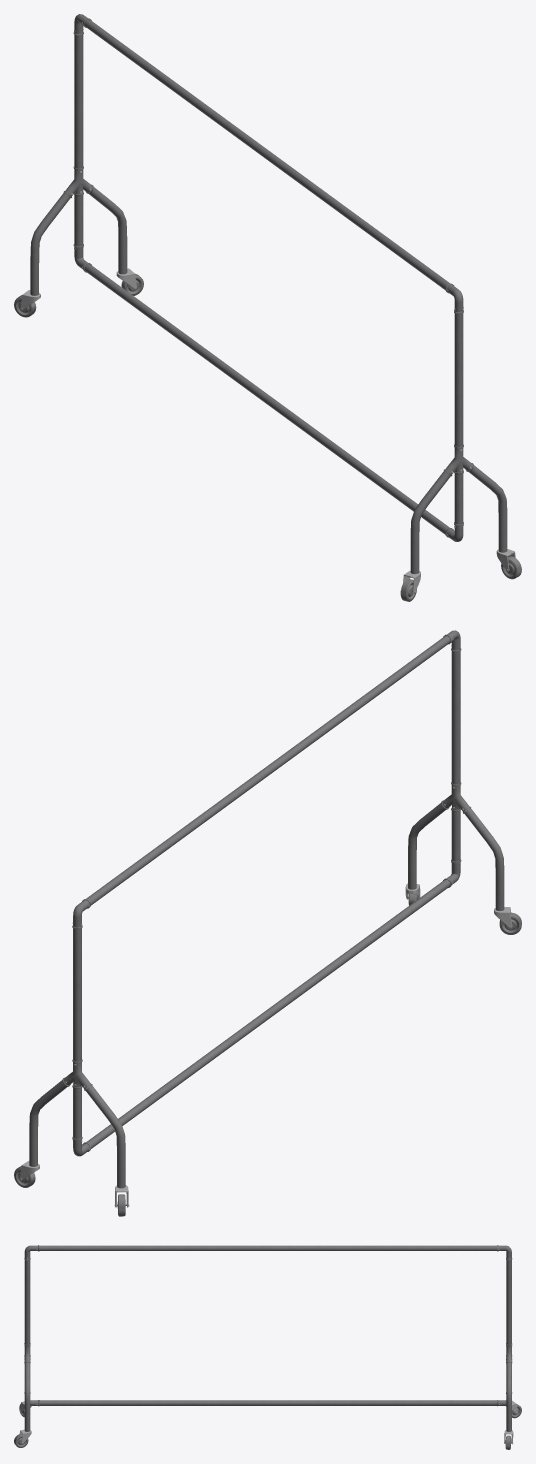
The model's file is SM_Rack_02c.fbx.
The picture shows the model from 3 angles, top to bottom: view 1: azimuth 30°, elevation 25°; view 2: azimuth 150°, elevation 25°; view 3: azimuth 270°, elevation 25°; orthographic projection. The views are drawn at different scales.
Parts seen in each view (by area): view 1: SM_Rack_02c_LOD0; view 2: SM_Rack_02c_LOD0; view 3: SM_Rack_02c_LOD0.
Boxes of the visible parts, x1,y1,x2,y2 form: SM_Rack_02c_LOD0: (14, 14, 521, 601); SM_Rack_02c_LOD0: (14, 630, 521, 1216); SM_Rack_02c_LOD0: (14, 1245, 521, 1449).
Bounding box in the file's own units: 59.71 × 331 × 135.
